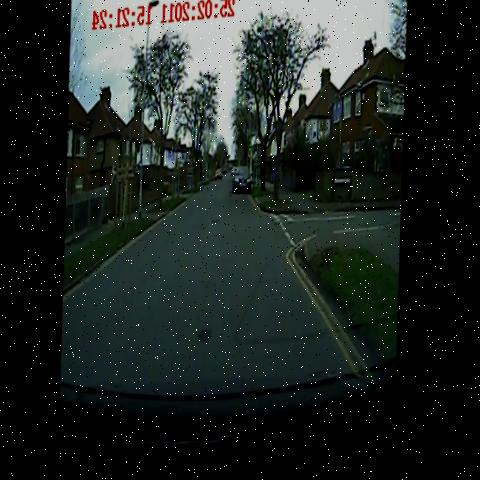pothole: (193, 323, 226, 360), (208, 211, 226, 235)
